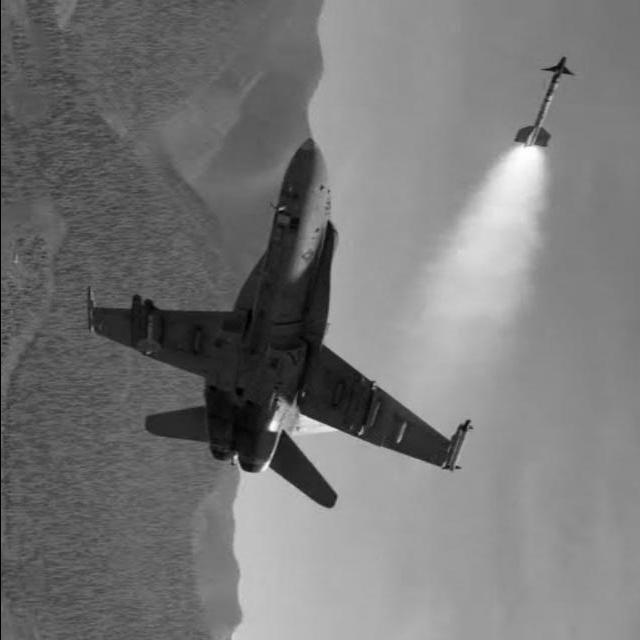missile: (508, 55, 585, 155)
